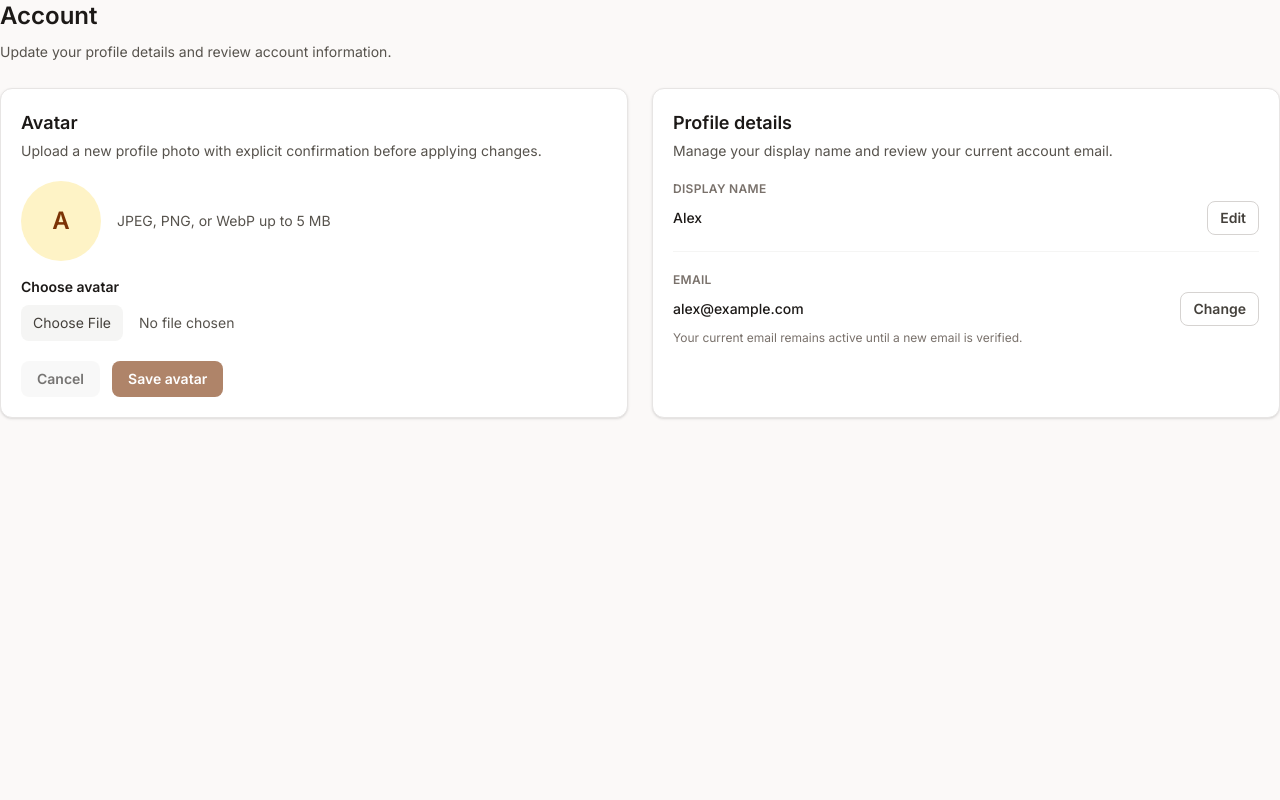
Test: AccountSettingsClient › email change dialog › submits email change and shows confirmation message
Step 1. Click the button "Change" → point(1220, 309), box 1180,292 -> 1259,326
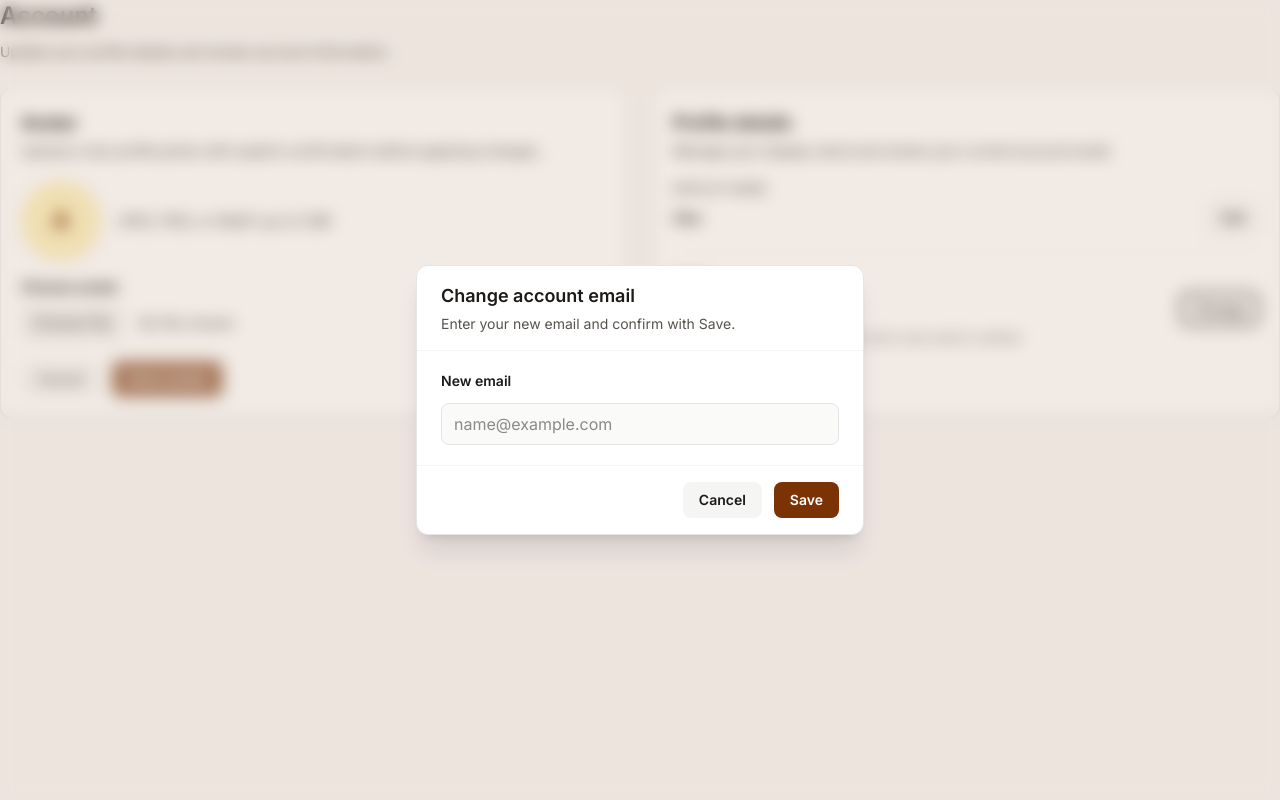
Step 2. Type "new@example.com" into the field with placeholder "name@example.com" → point(640, 424), box 441,403 -> 839,445
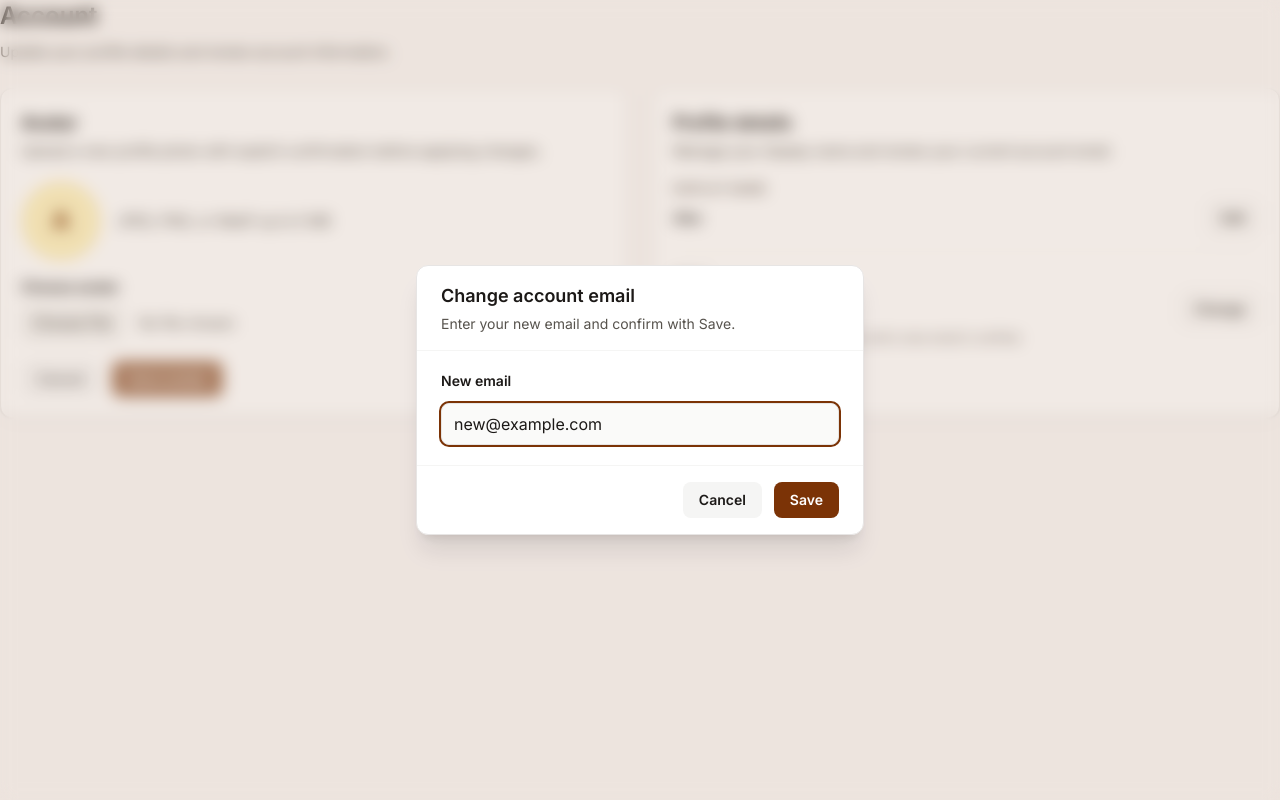
Step 3. Click the button "Save" → point(806, 500), box 774,482 -> 839,518
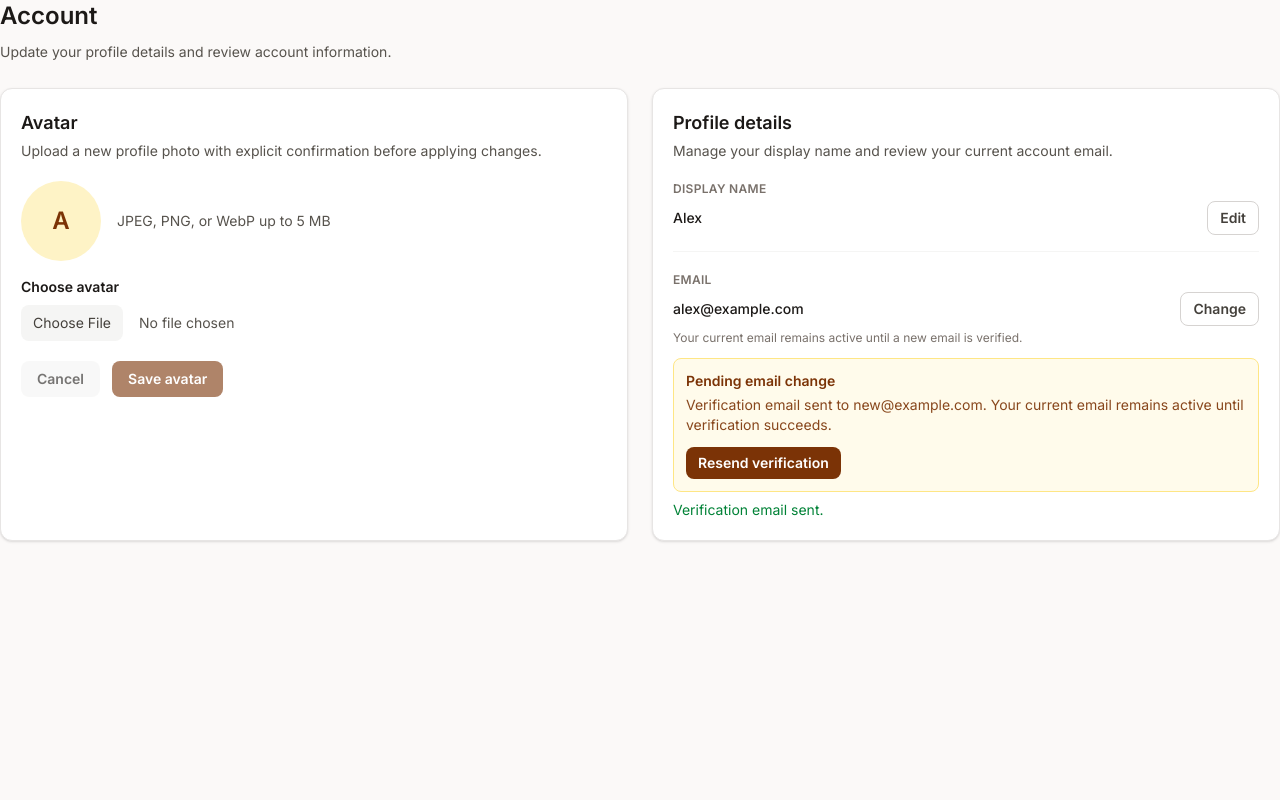
Expected: the field with placeholder "name@example.com" is not shown
Now the text "Verification email sent." is shown, box 673,501 -> 824,518
